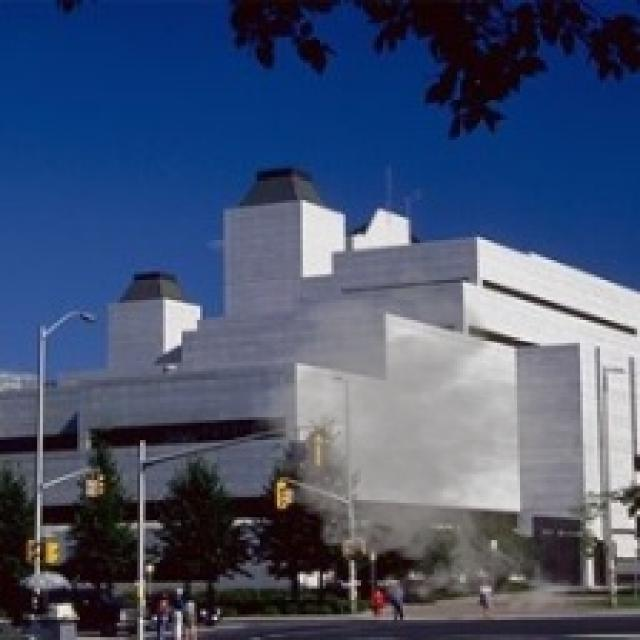Smoke: (237, 263, 637, 623)
